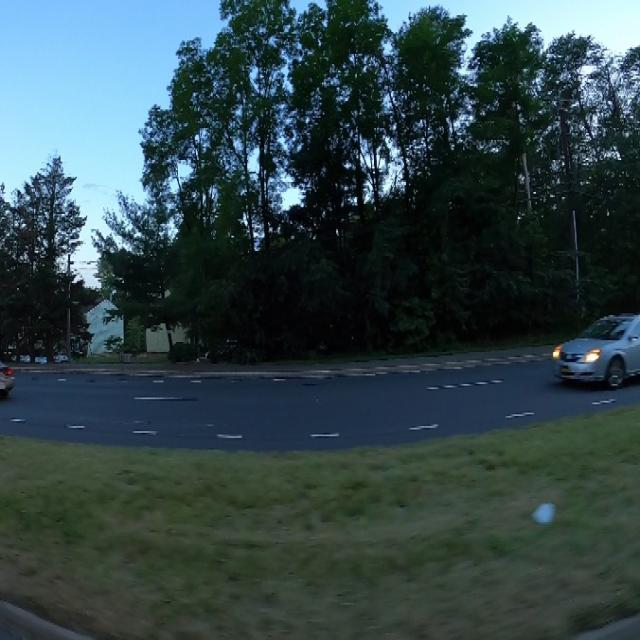cars: (556, 312, 640, 385), (0, 346, 16, 406)
